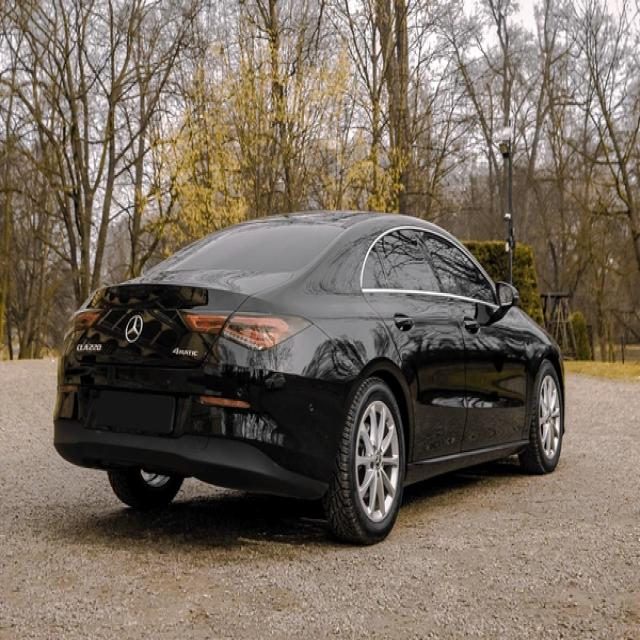mercedes: (122, 313, 146, 344)
